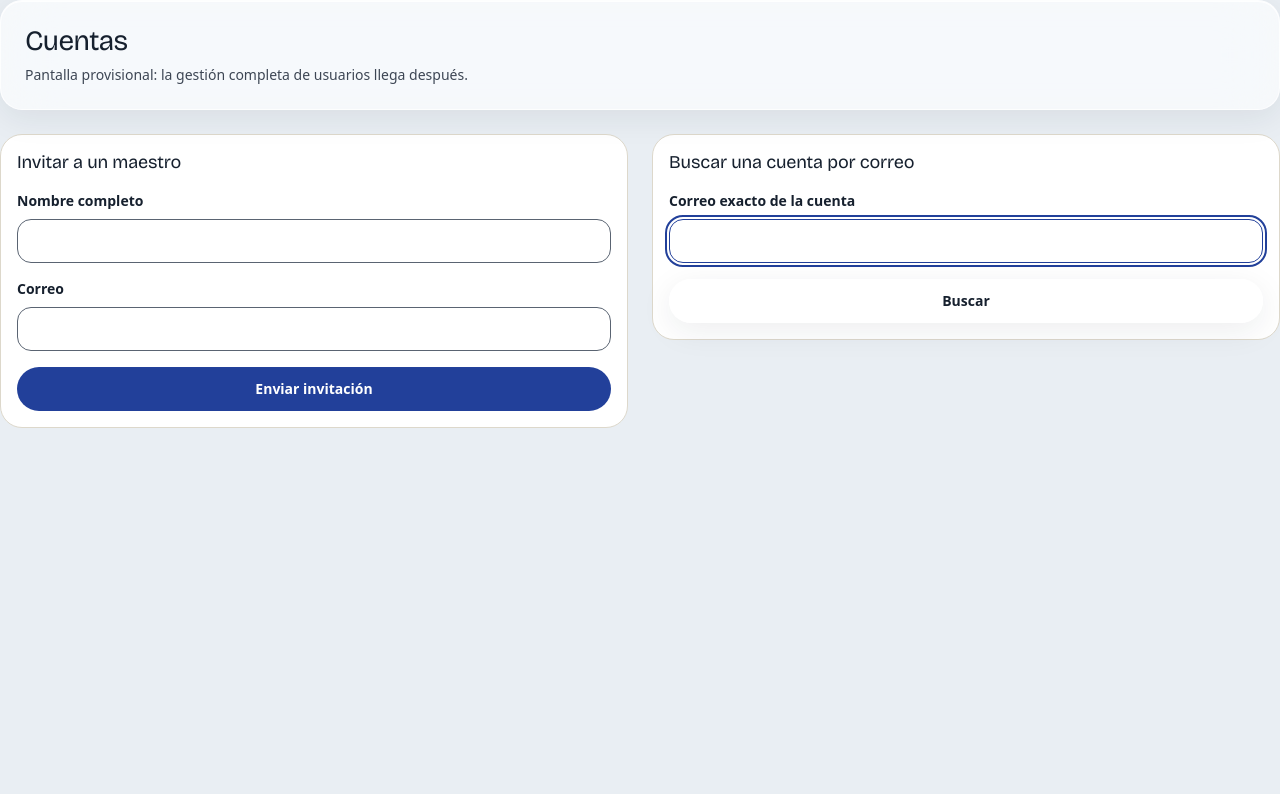
it: ataque (DESIGN-01a r1): F-2 y F-3 tras un clic en una zona no enfocable › clic fuera y a escribir en 'Nombre completo': la temporal no le roba el foco
The width and height of the screenshot is (1280, 794).
Type "carla@ejemplo.mx" into the field labelled "Correo exacto de la cuenta" at (966,241), box [669, 219, 1263, 263]
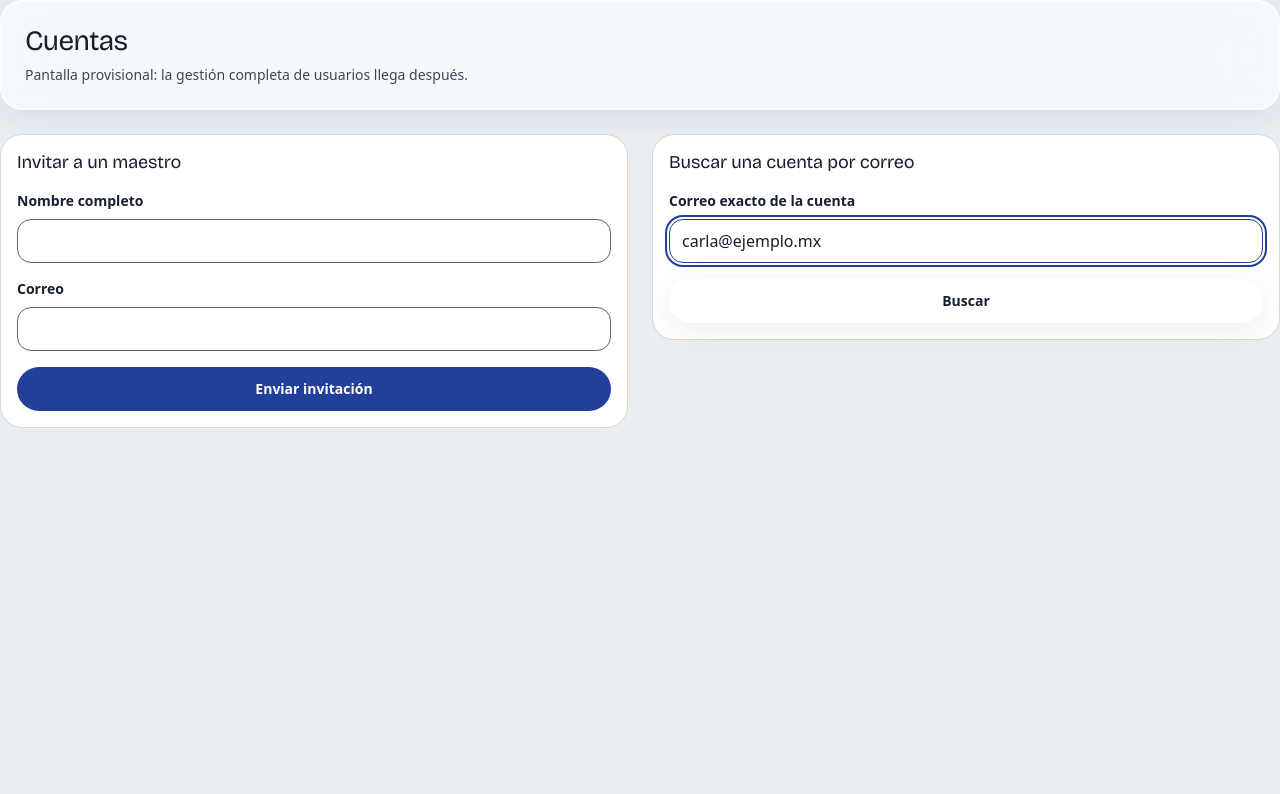
Submit the form "Buscar", box [652, 134, 1279, 340]
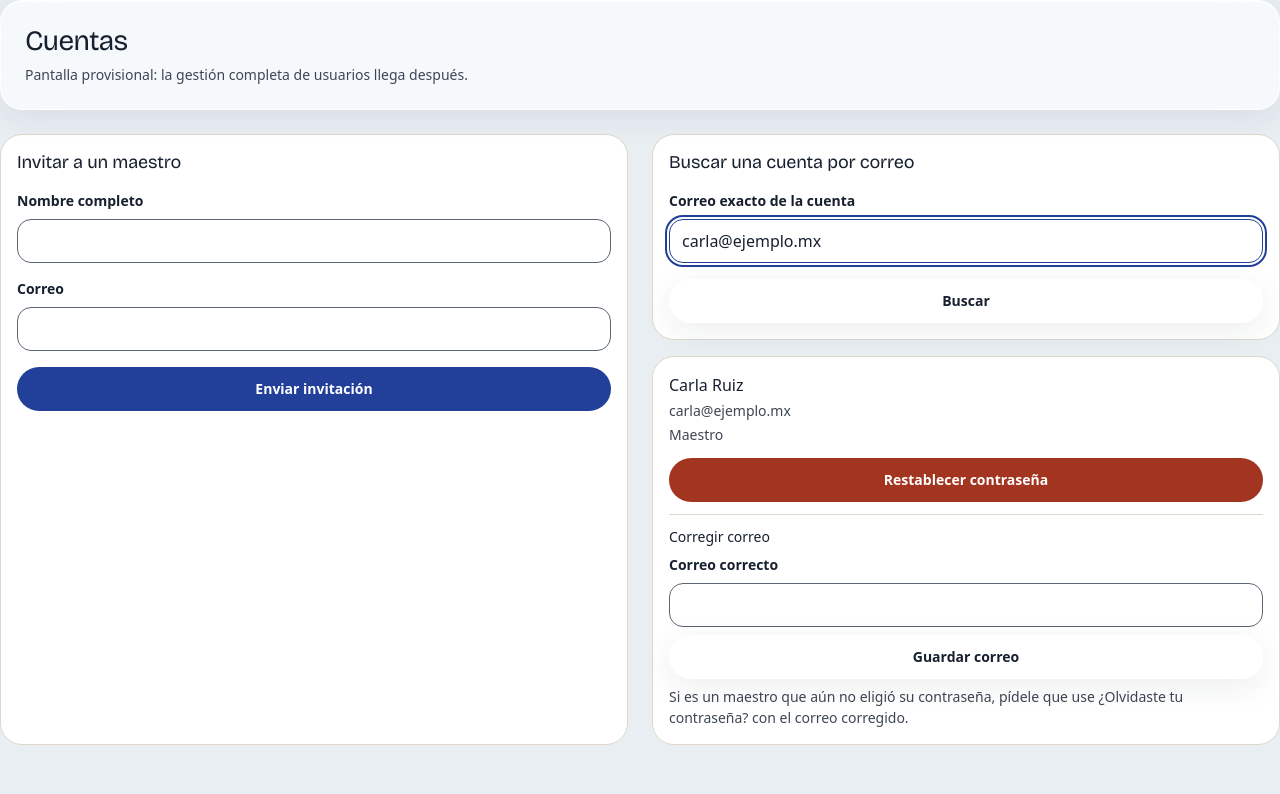
Expected: the text "Carla Ruiz" is shown, [669, 374, 744, 396]
Click the button "Restablecer contraseña" at (966,480), box [669, 458, 1263, 502]
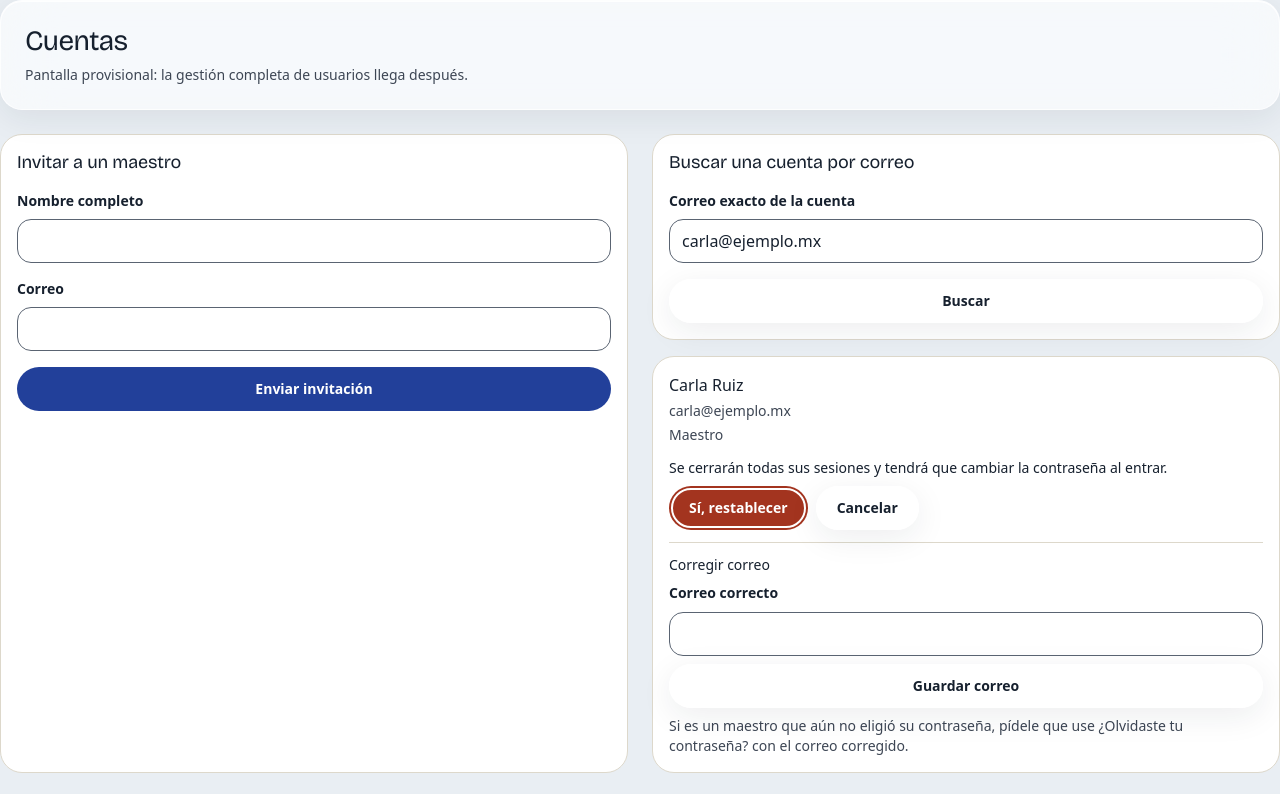
Click the button "Sí, restablecer" at (738,508), box [669, 486, 808, 530]
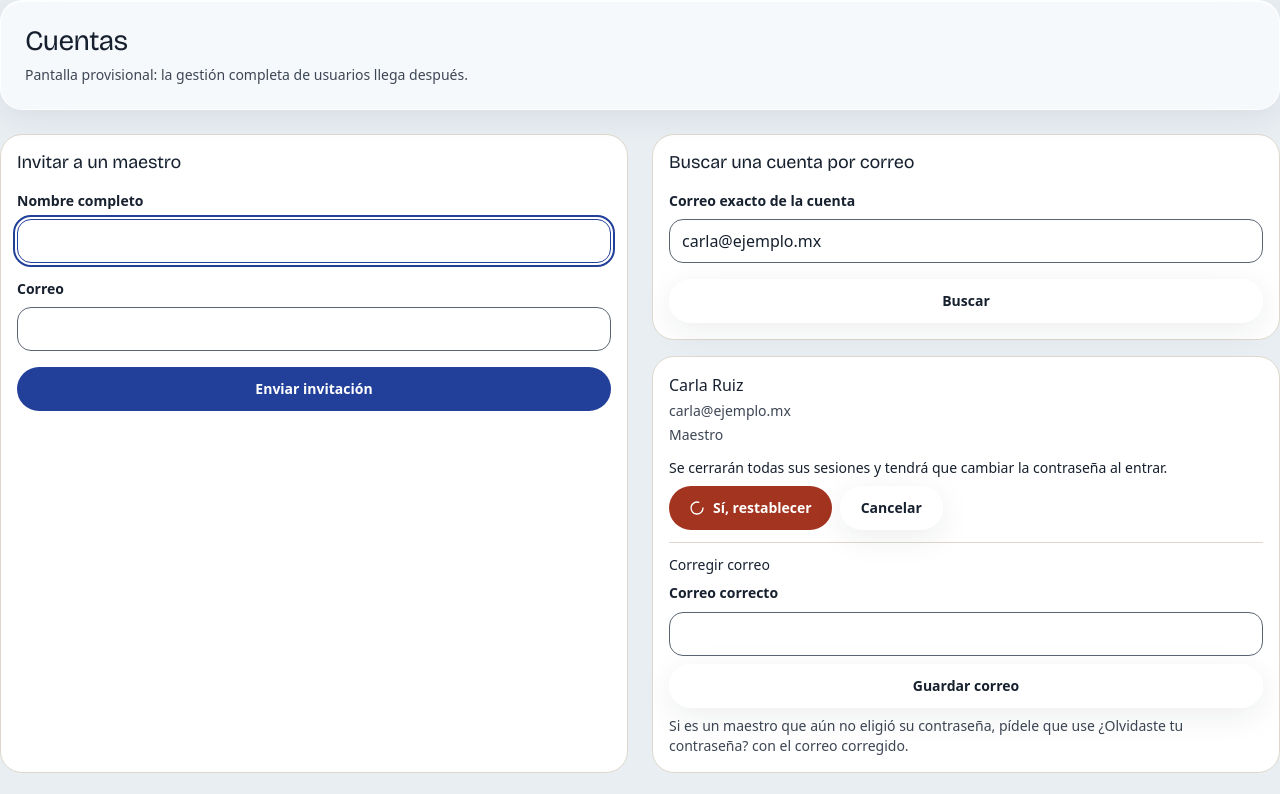
Expected: the button "Sí, restablecer" is disabled, [669, 486, 832, 530]
Expected: the button "Sí, restablecer" has attribute aria-busy="true", [669, 486, 832, 530]
Type "Ana Lóp" into the field labelled "Nombre completo" at (314,241), box [17, 219, 611, 263]
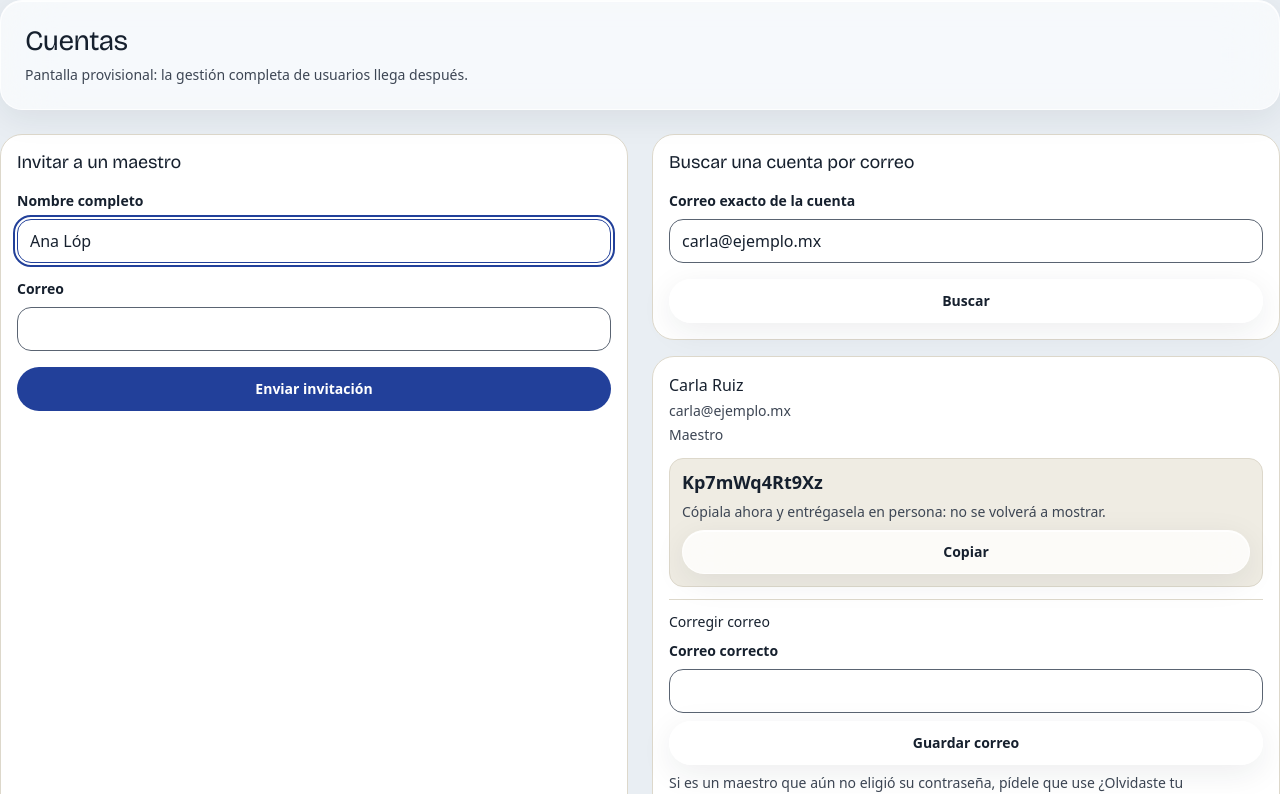
Expected: the text "Kp7mWq4Rt9Xz" is shown, [682, 470, 823, 494]
